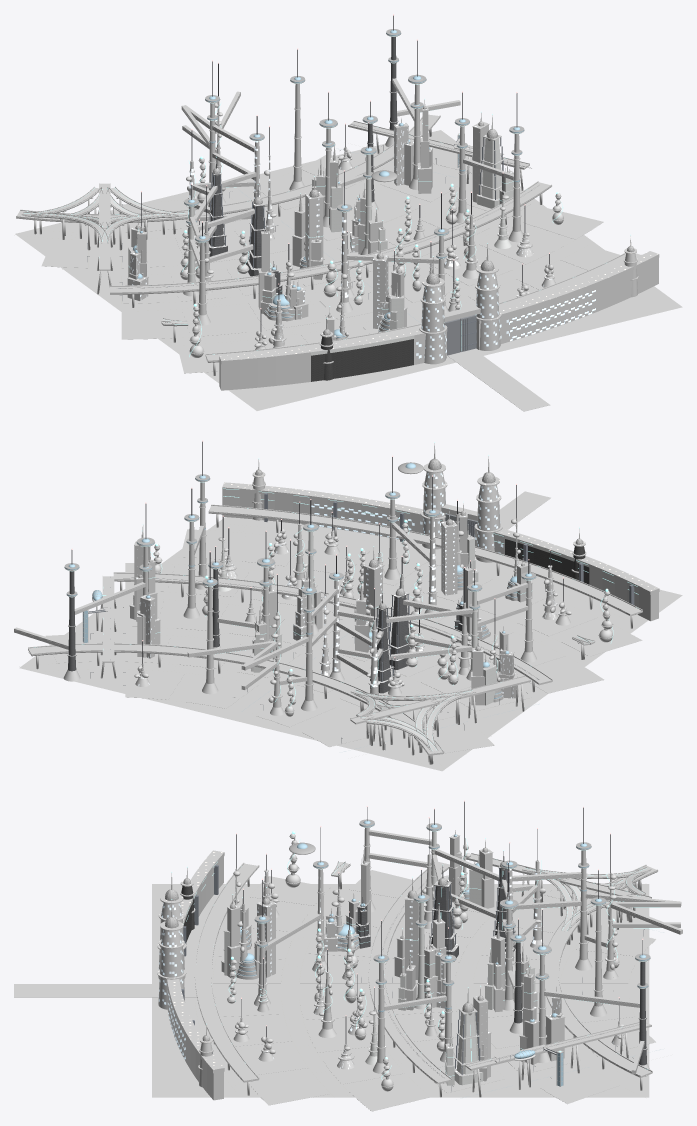
Rendered from Viertel_M1.fbx.
3 renders of one model, top to bottom at view 1: azimuth 30°, elevation 25°; view 2: azimuth 150°, elevation 25°; view 3: azimuth 270°, elevation 25°, orthographic. The views are drawn at different scales.
Visible parts, largest first — view 1: Viertel_M1_Strasse, Viertel_M1_Fassaden, Viertel_M1_Details; view 2: Viertel_M1_Strasse, Viertel_M1_Fassaden, Viertel_M1_Details; view 3: Viertel_M1_Strasse, Viertel_M1_Fassaden, Viertel_M1_Details.
Boxes of the visible parts, bbox=[...] form: Viertel_M1_Strasse: bbox=[14, 114, 682, 411]; Viertel_M1_Fassaden: bbox=[127, 37, 659, 390]; Viertel_M1_Details: bbox=[22, 14, 638, 375]; Viertel_M1_Strasse: bbox=[19, 491, 682, 771]; Viertel_M1_Fassaden: bbox=[63, 471, 659, 716]; Viertel_M1_Details: bbox=[14, 440, 638, 764]; Viertel_M1_Strasse: bbox=[14, 862, 663, 1111]; Viertel_M1_Fassaden: bbox=[158, 827, 649, 1100]; Viertel_M1_Details: bbox=[157, 800, 682, 1097].
Bounding box in the file's own units: 72458 × 22451 × 84778.
